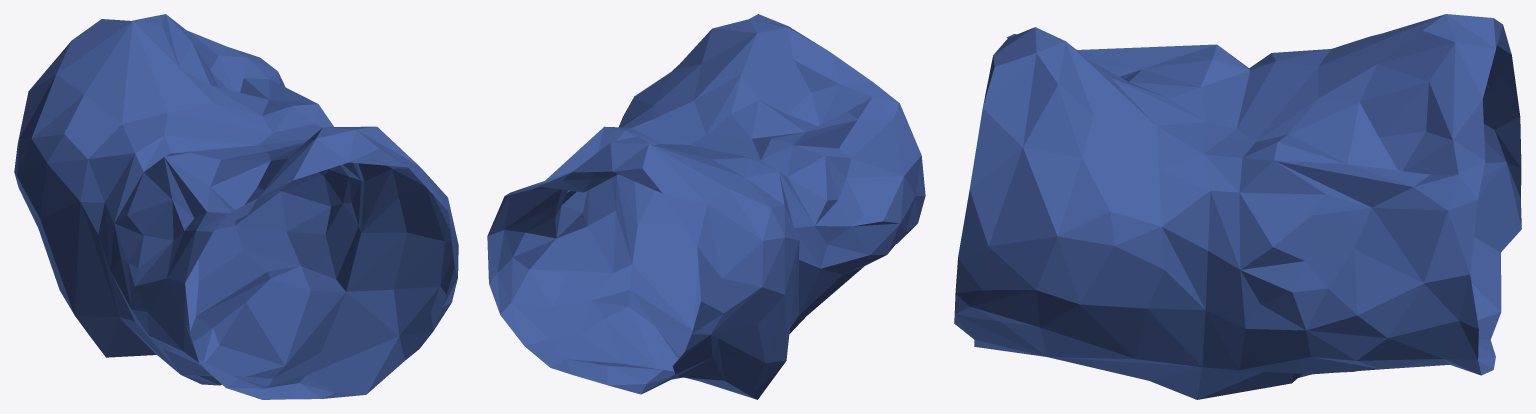
Rendered from LongCor.fbx.
3 renders of one model, left to right at view 1: azimuth 30°, elevation 25°; view 2: azimuth 150°, elevation 25°; view 3: azimuth 270°, elevation 25°, orthographic. The views are drawn at different scales.
Visible parts, largest first — view 1: LongCor; view 2: LongCor; view 3: LongCor.
Part boxes in pixels (bbox=[...]): LongCor: bbox=[14, 14, 458, 399]; LongCor: bbox=[487, 14, 925, 399]; LongCor: bbox=[954, 14, 1521, 399].
Bounding box in the file's own units: 1387 × 1338 × 1864.
